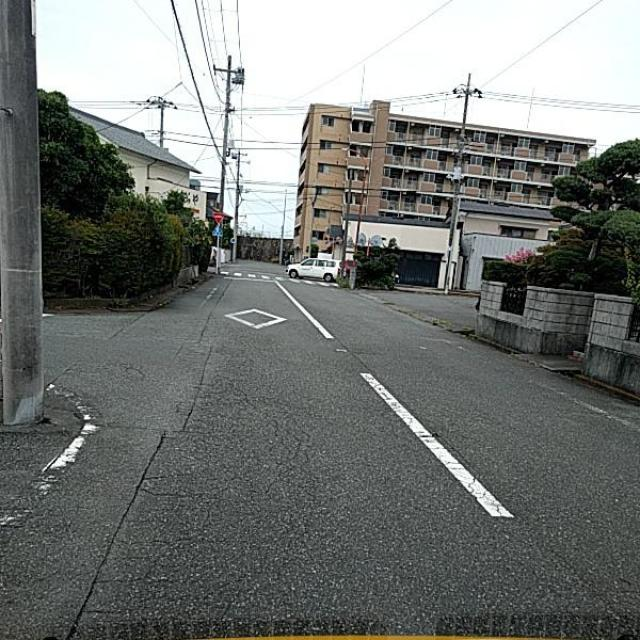Crack: (148, 293, 324, 640)
